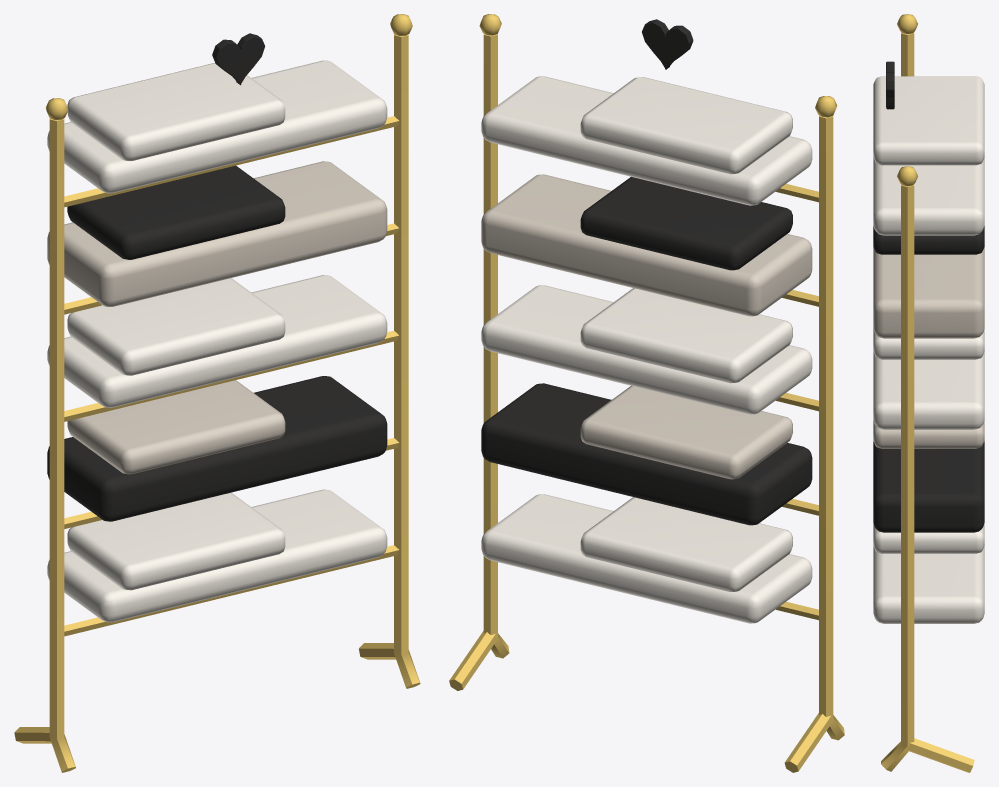
The model's file is towel_warmer_rack.glb.
3 views of the same model, side by side, from view 1: azimuth 30°, elevation 25°; view 2: azimuth 150°, elevation 25°; view 3: azimuth 270°, elevation 25° (orthographic). The views are drawn at different scales.
Parts seen in each view (by area): view 1: towel_warmer_rack; view 2: towel_warmer_rack; view 3: towel_warmer_rack.
Part boxes in pixels (bbox=[...]): towel_warmer_rack: bbox=[14, 14, 420, 772]; towel_warmer_rack: bbox=[449, 14, 844, 772]; towel_warmer_rack: bbox=[873, 14, 984, 772].
Bounding box in the file's own units: 0.89 × 1.62 × 0.26.
